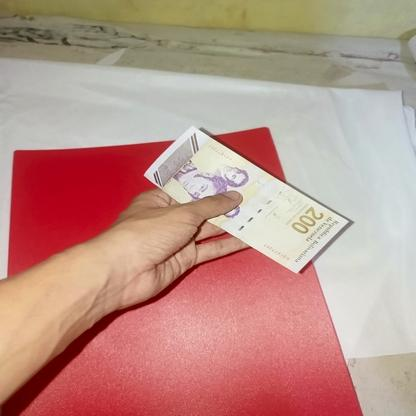two_hundred-front-vef: (142, 124, 349, 274)
